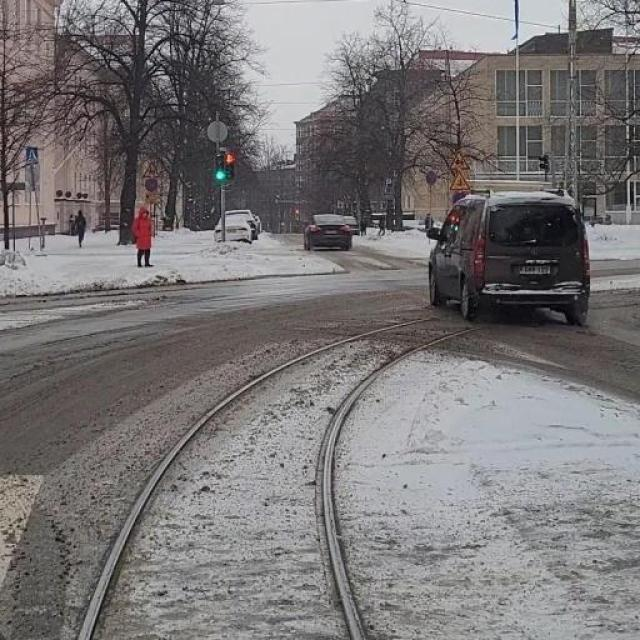people: (134, 208, 160, 264)
vehicle: (421, 185, 598, 328), (297, 206, 362, 252)
